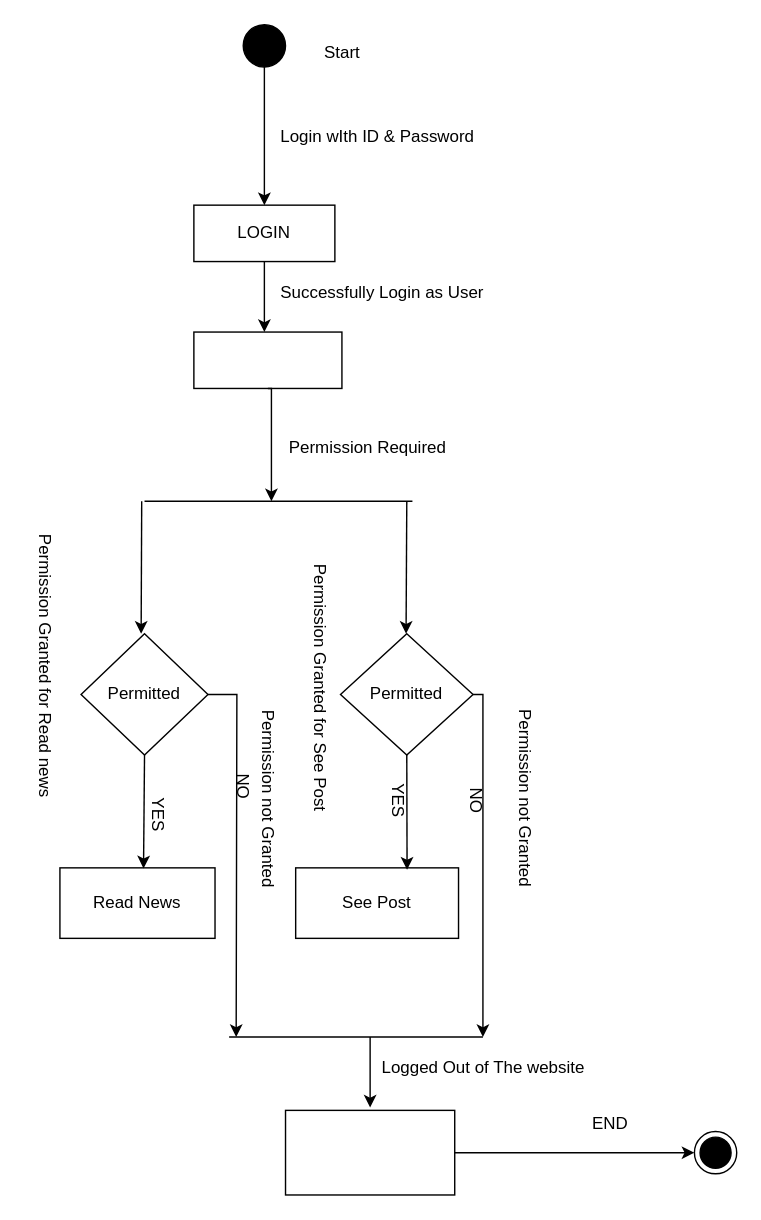
This 761x1220 diagram has some shape labels left out. Each missing label, with the centre of its shape:
Logged out: the point at 369,1152
USER: the point at 267,359
